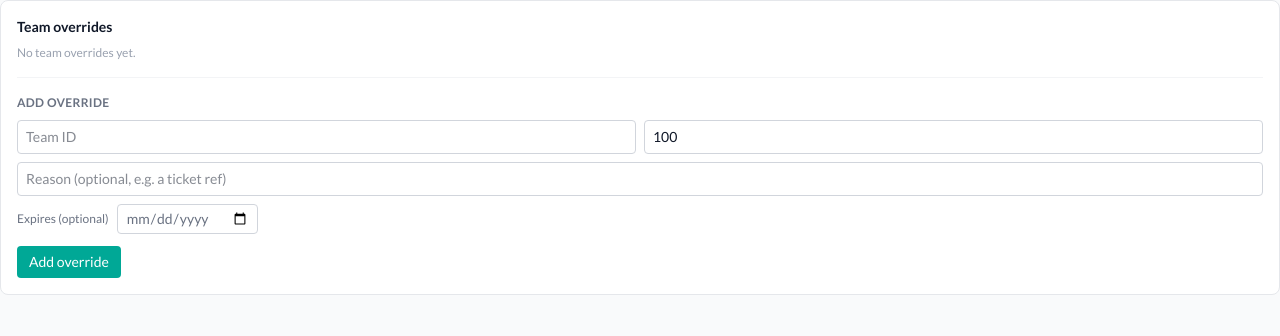
ShadowRolloutTeamOverridesTable › shows an error and does not clear the form when adding without a team ID
Click the button "Add override".
click(69, 262)  # box [17,246,121,278]
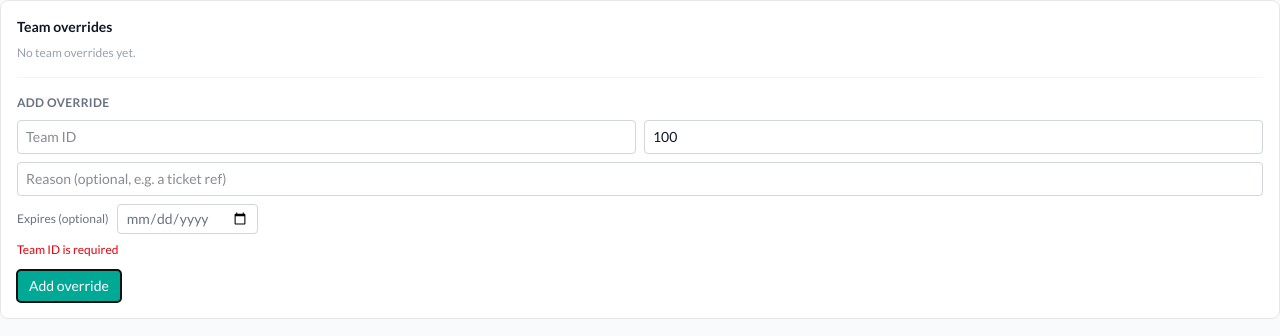
Check: the text "Team ID is required" is shown, box [17,242,118,257]
